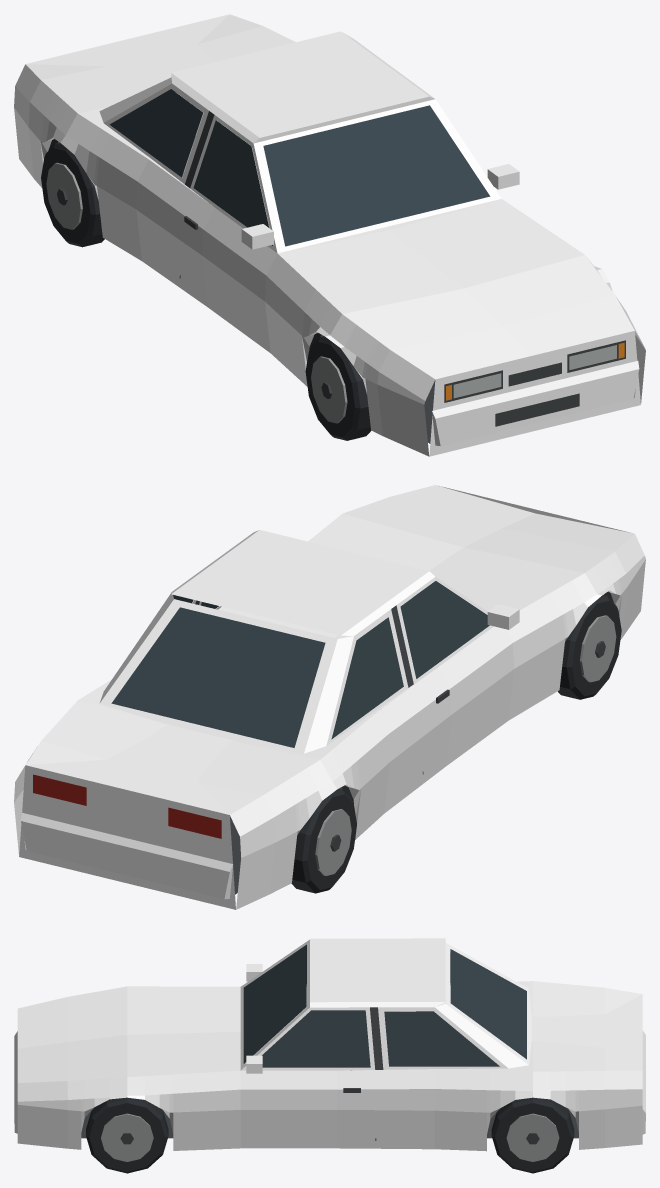
File: varenna_fiume_s.glb
The picture shows the model from 3 angles, top to bottom: view 1: azimuth 30°, elevation 25°; view 2: azimuth 150°, elevation 25°; view 3: azimuth 270°, elevation 25°; orthographic projection. The views are drawn at different scales.
Visible parts, largest first — view 1: varenna_fiume_s; view 2: varenna_fiume_s; view 3: varenna_fiume_s.
Part boxes in pixels (x1,y1,x2,y2): varenna_fiume_s: [14, 14, 645, 456]; varenna_fiume_s: [14, 485, 645, 909]; varenna_fiume_s: [14, 938, 645, 1173].
Size of the model in its own units: 1.8 by 1.25 by 4.64.
Materials: 8 (1 with a texture image).
